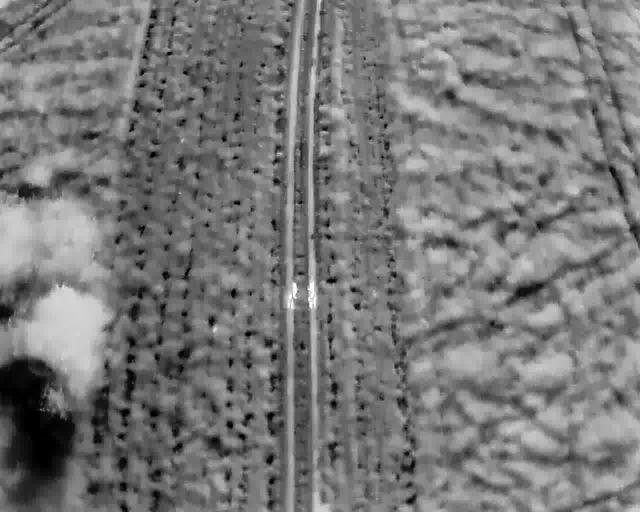person: (285, 277, 300, 311), (305, 276, 318, 311)
